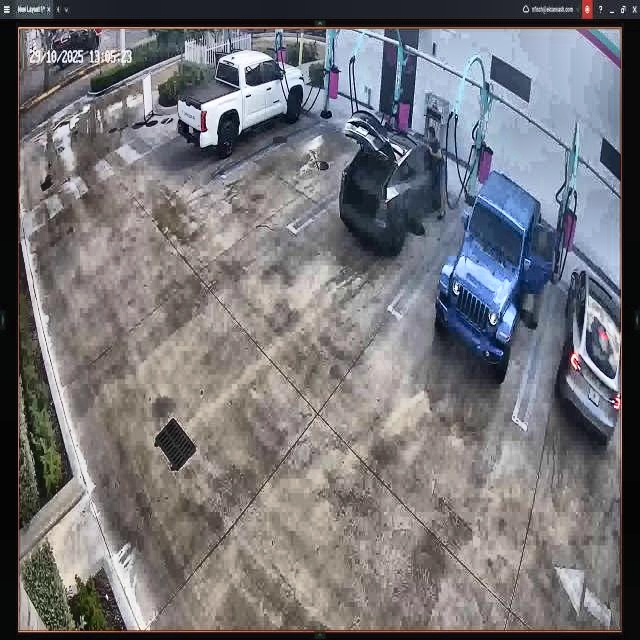Car: (436, 171, 553, 372), (335, 96, 445, 254), (176, 48, 304, 158)
